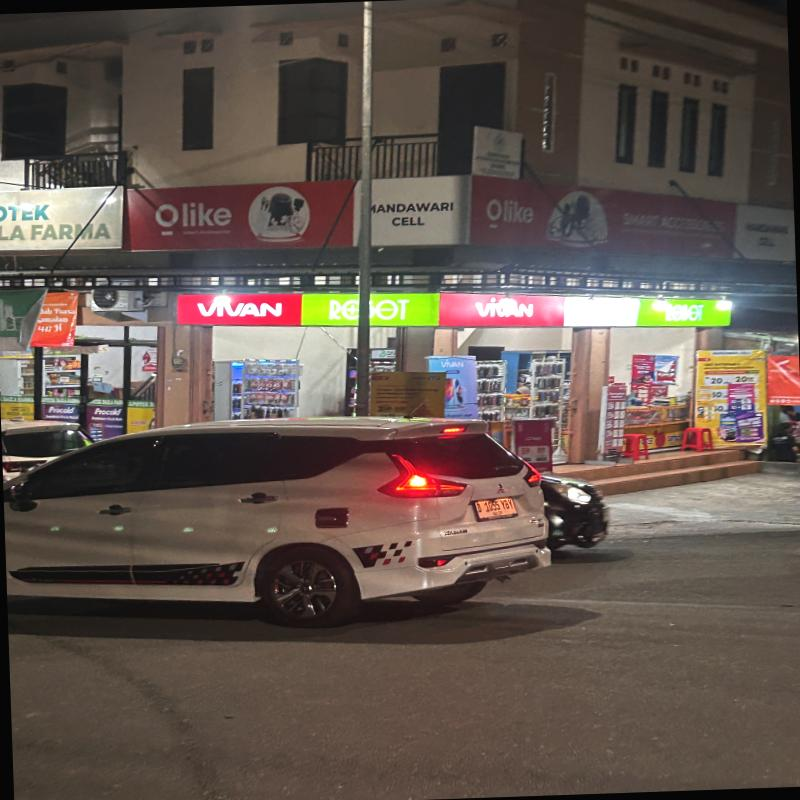license plate on a car: (473, 495, 524, 518)
